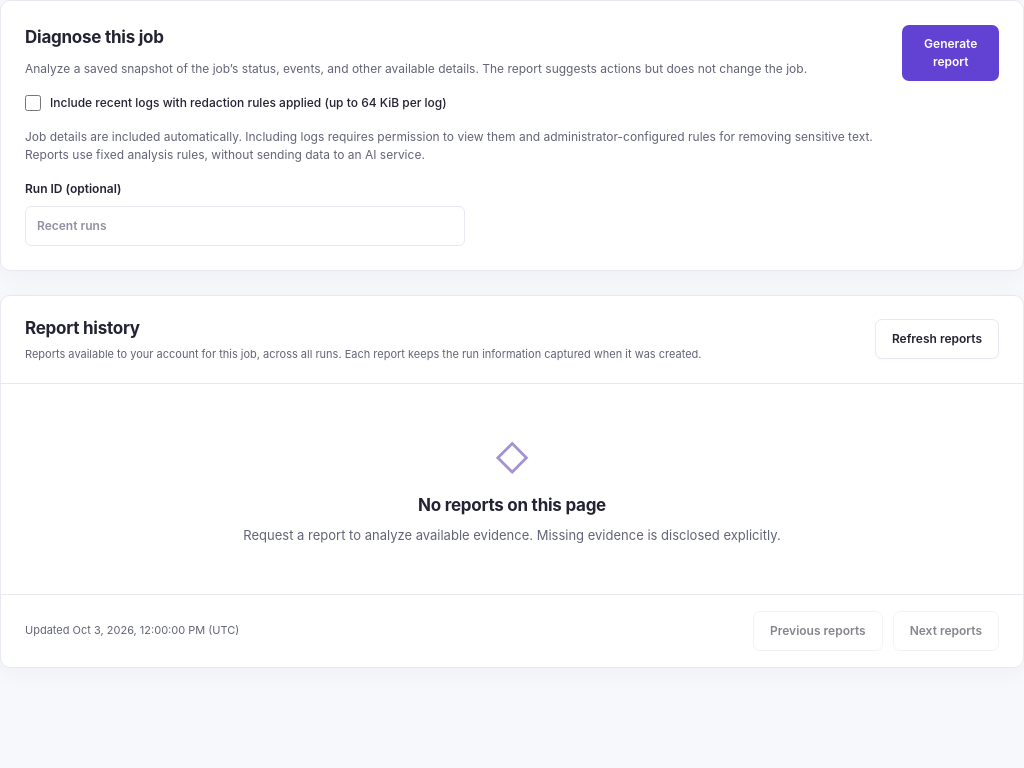
uses a new request key after a definitive source snapshot rejection
Expected: the heading "No reports on this page" is shown, [418, 494, 606, 514]
Click the button "Generate report" at point(951, 53), box [902, 25, 999, 81]
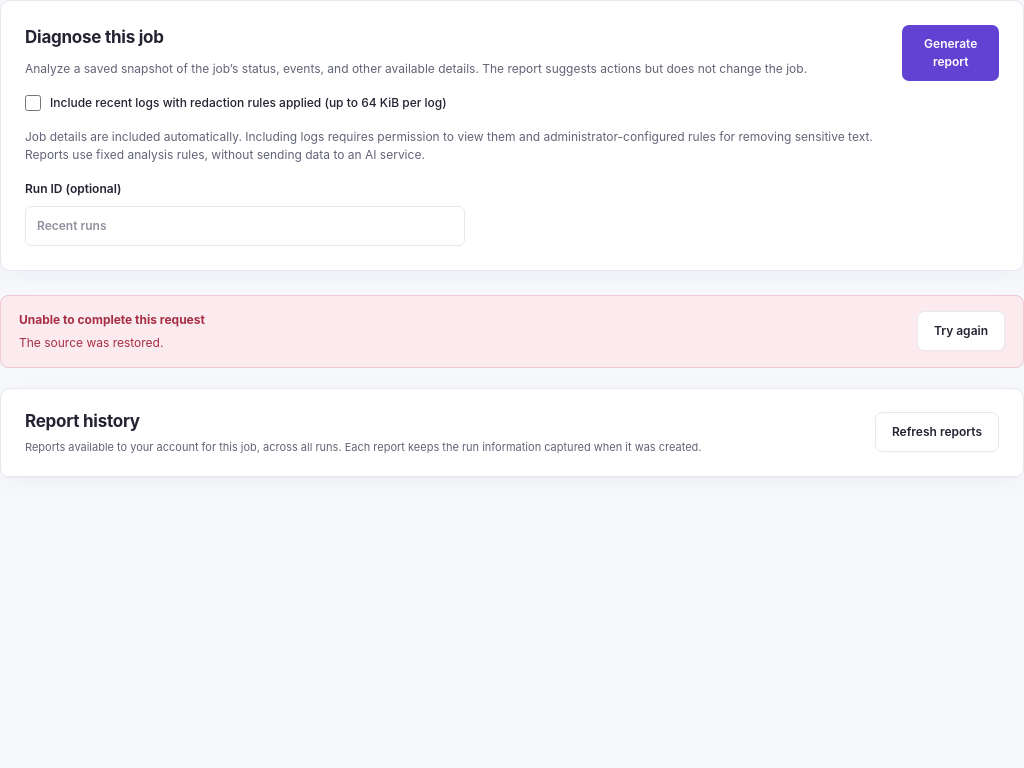
Now the text "The source was restored." is shown, box [19, 334, 163, 350]
Click the button "Generate report" at point(951, 53), box [902, 25, 999, 81]
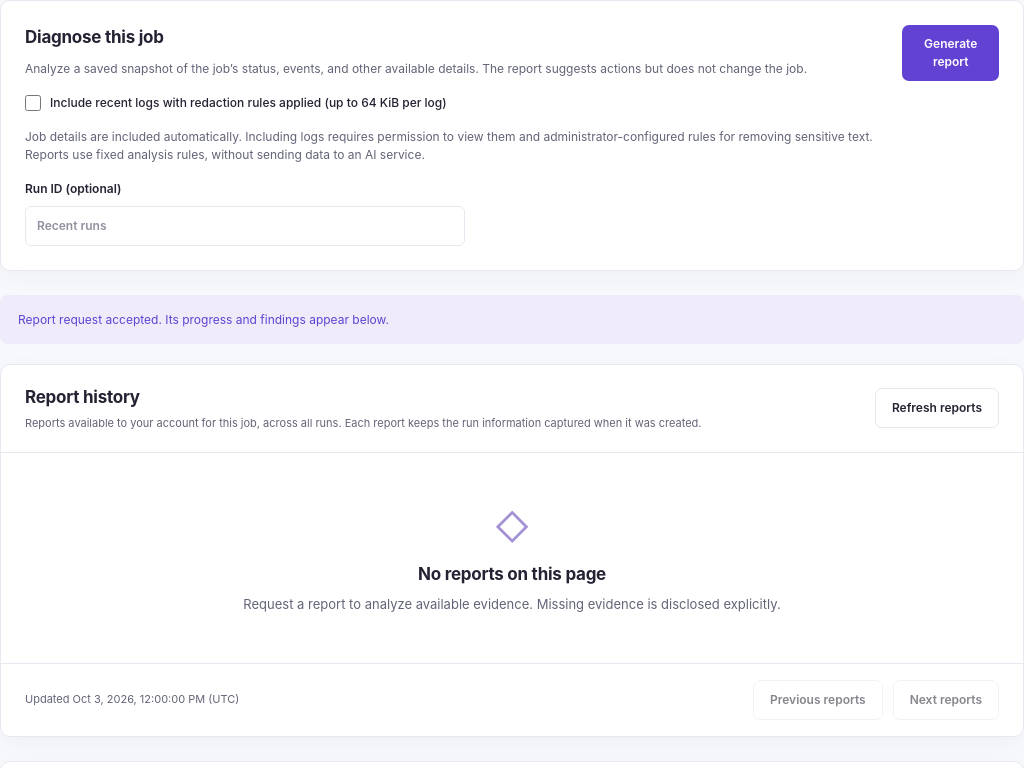
Now the text "Report request accepted. Its progress and findings appear below." is shown, box [0, 294, 1023, 344]
